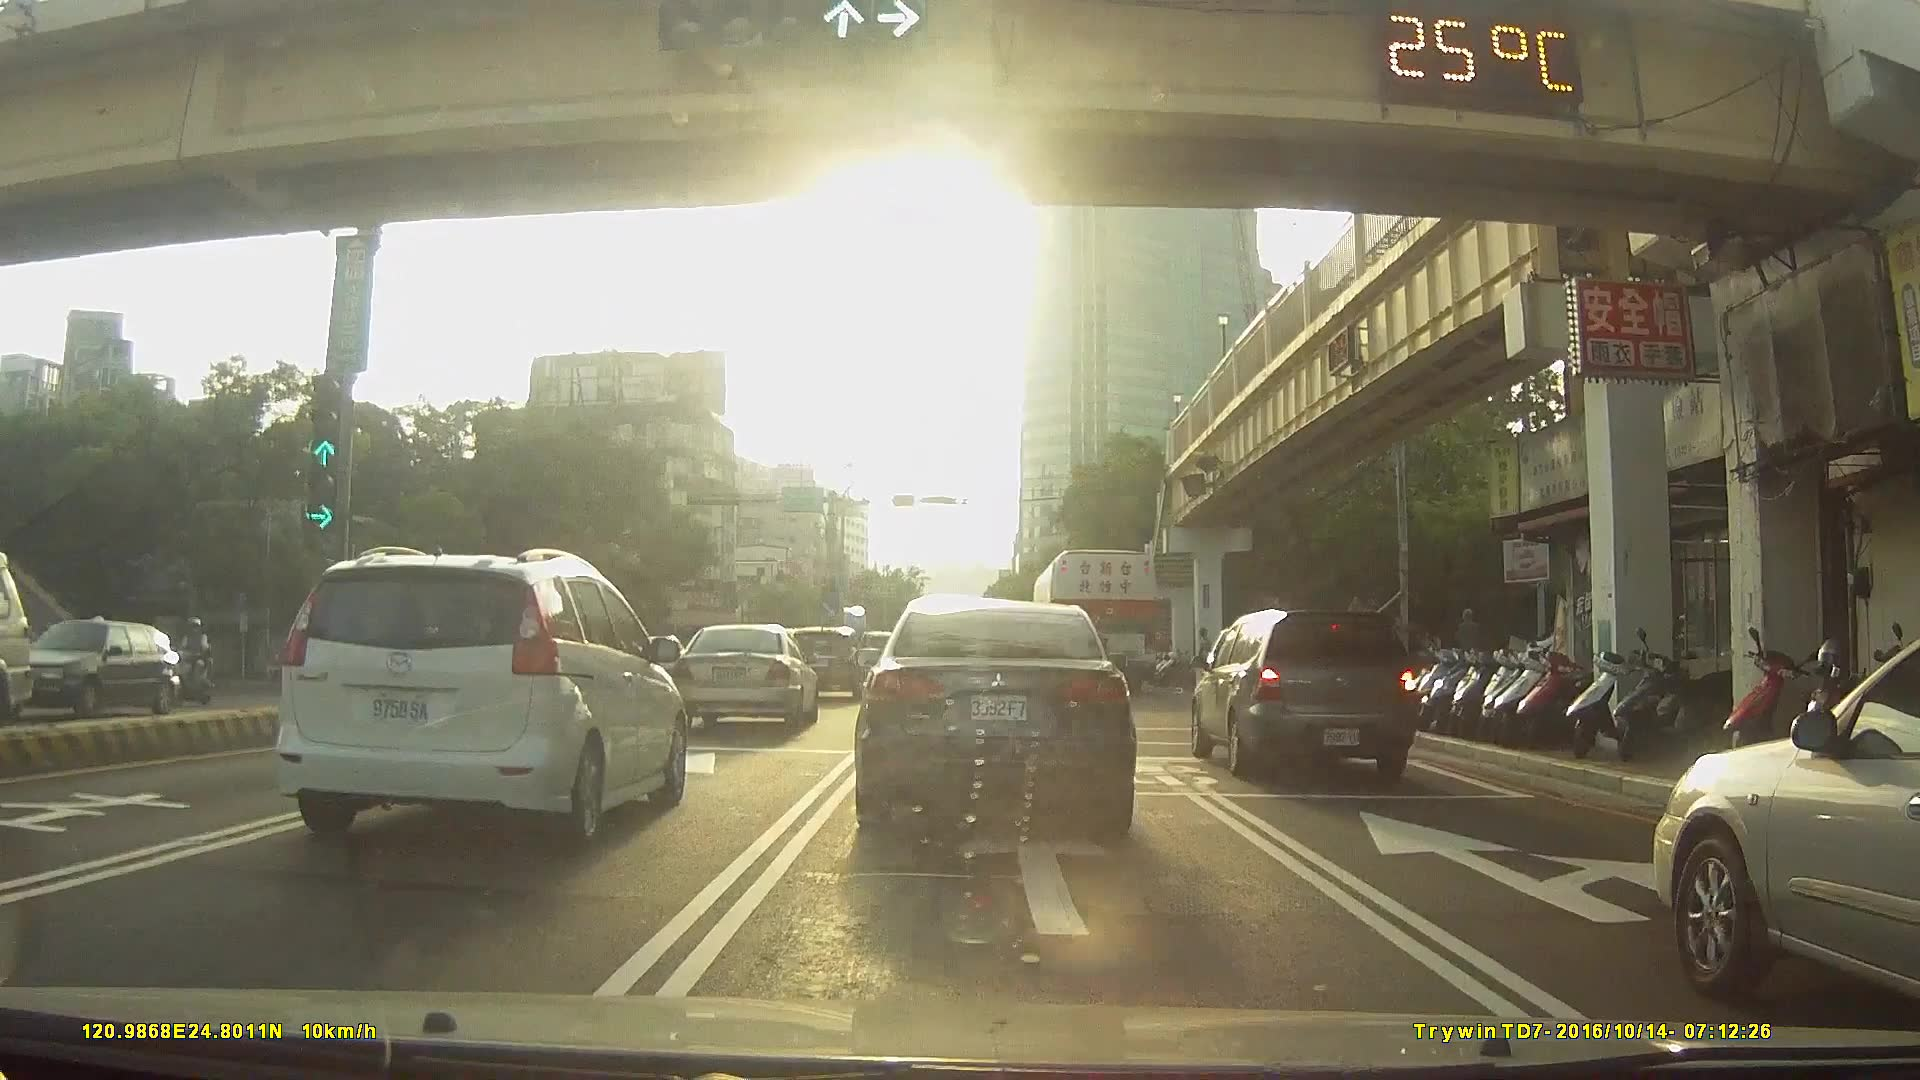pedestrian: (1205, 619, 1232, 682)
rider: (166, 614, 216, 707)
vehicle: (273, 540, 691, 848), (1646, 636, 1920, 1007), (851, 590, 1134, 842), (1193, 603, 1420, 778), (15, 616, 185, 725), (1029, 544, 1157, 690), (673, 617, 817, 727), (779, 622, 864, 696), (638, 633, 690, 677)
